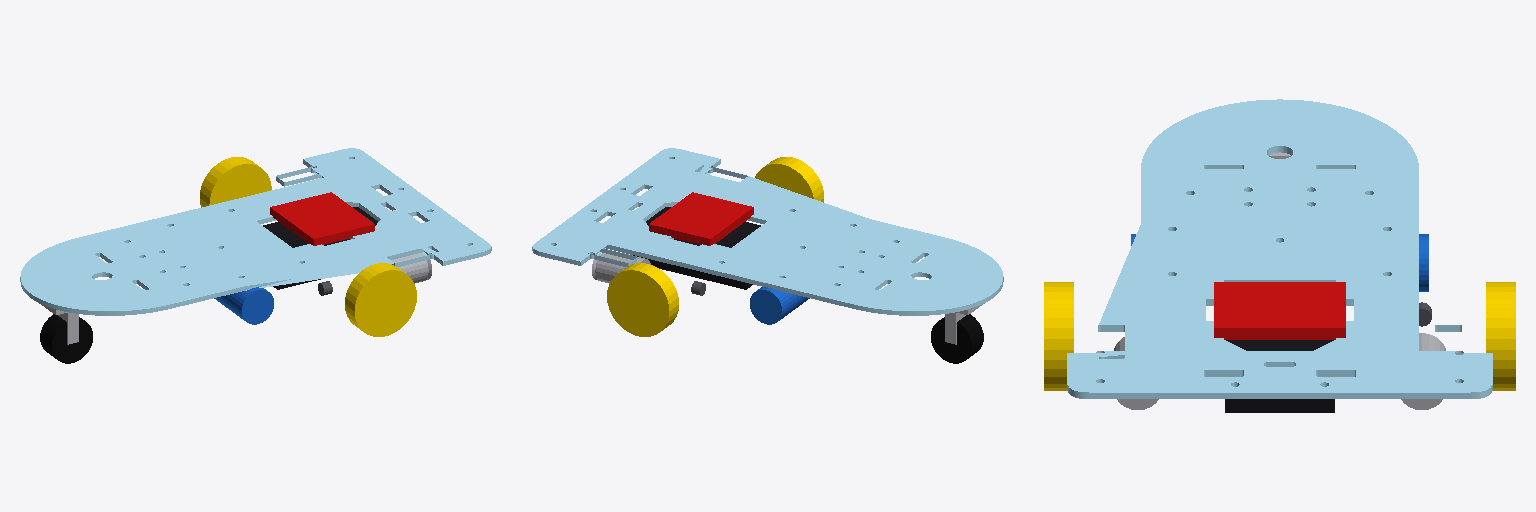
URDF robot description (robot-car):
<?xml version="1.0"?>
<!--
  Physical Agents OS — 2WD Robot Car
  Dimensions sourced from manufacturer datasheets and verified product listings.

  Coordinate convention (viewer-oriented, Z-up):
    -X = forward (bumper / front)   X = rear
    -Y = left                       Y = right
     Z = up

  Note: with -X as forward, RHR gives left = Z × (-X) = -Y.

  Note: bumper is at -X so it faces the viewer's default camera
  (Three.js camera dir (-1, 0.7, 1) → URDF -X side is camera-facing).

  Component sources:
    Chassis    — 220×150×3 mm acrylic (2WD kit, confirmed multiple sellers)
    TT Motor   — 70×22×18 mm body, 10 mm shaft @ ø5.3 mm (Adafruit #3777)
    Wheels     — ø65 mm × 25 mm rubber (Adafruit #3763)
    Caster     — 20 mm total height, 15.7 mm ball (Adafruit #3948)
    L298N      — 43×43×27.5 mm PCB + heatsink (Components101 datasheet)
    ESP32-CAM  — 40×27×12 mm incl. camera assembly (DFRobot DFR0602)
    HC-SR04    — 45×20×15 mm (SparkFun datasheet)
    Power bank — ø35×92 mm cylinder (SIXTHGU, estimated)
    9V battery — 62×27×22 mm holder (estimated)

  All dimensions in meters.
-->
<robot name="robot-car">

  <!-- ─────────────────────────────────────────────────────────────── -->
  <!-- CHASSIS                                                          -->
  <!-- Clear acrylic base plate: 220 × 150 × 3 mm                     -->
  <!-- Mesh: rounded body + curved front bumper arc (generated STL)   -->
  <!-- Bumper at -X (front/camera-facing), rear at +X                 -->
  <!-- ─────────────────────────────────────────────────────────────── -->
  <!-- base_link is the root reference frame (no visual) -->
  <link name="base_link"/>

  <!-- chassis is a child of base_link so the Inspector can select/scale it -->
  <joint name="chassis_joint" type="fixed">
    <parent link="base_link"/>
    <child link="chassis"/>
    <origin xyz="0 0 0" rpy="0 0 0"/>
  </joint>

  <link name="chassis">
    <visual>
      <geometry>
        <mesh filename="chassis.stl" scale="1.07 0.90 1.00"/>
      </geometry>
      <material name="acrylic">
        <color rgba="0.72 0.91 1.00 0.50"/>
      </material>
    </visual>
  </link>

  <!-- ─────────────────────────────────────────────────────────────── -->
  <!-- LEFT DRIVE MOTOR                                                 -->
  <!-- Shaft → -Y (left wheel).  rpy R_x(PI) flips shaft +Y → -Y     -->
  <!-- DC can stays along -X (front) because R_x doesn't affect X     -->
  <!-- ─────────────────────────────────────────────────────────────── -->
  <link name="motor_left">
    <visual>
      <origin xyz="0 0 0" rpy="3.14159 0 0"/>
      <geometry><mesh filename="tt_gearbox.stl"/></geometry>
      <material name="motor_yellow"><color rgba="1.00 0.85 0.00 1.00"/></material>
    </visual>
    <visual>
      <origin xyz="0 0 0" rpy="3.14159 0 0"/>
      <geometry><mesh filename="tt_can.stl"/></geometry>
      <material name="motor_silver"><color rgba="0.72 0.72 0.75 1.00"/></material>
    </visual>
    <visual>
      <origin xyz="0 0 0" rpy="3.14159 0 0"/>
      <geometry><mesh filename="tt_shaft.stl"/></geometry>
      <material name="motor_dark"><color rgba="0.35 0.35 0.38 1.00"/></material>
    </visual>
  </link>
  <joint name="motor_left_joint" type="fixed">
    <parent link="base_link"/>
    <child link="motor_left"/>
    <origin xyz="0.0400 -0.0570 -0.0110" rpy="0.0000 0.0000 0.0000"/>
  </joint>

  <!-- ─────────────────────────────────────────────────────────────── -->
  <!-- RIGHT DRIVE MOTOR                                                -->
  <!-- Shaft → +Y (right wheel).  No rotation needed.                 -->
  <!-- DC can along -X (toward front bumper).                         -->
  <!-- ─────────────────────────────────────────────────────────────── -->
  <link name="motor_right">
    <visual>
      <origin xyz="0 0 0" rpy="0 0 0"/>
      <geometry><mesh filename="tt_gearbox.stl"/></geometry>
      <material name="motor_yellow"><color rgba="1.00 0.85 0.00 1.00"/></material>
    </visual>
    <visual>
      <origin xyz="0 0 0" rpy="0 0 0"/>
      <geometry><mesh filename="tt_can.stl"/></geometry>
      <material name="motor_silver"><color rgba="0.72 0.72 0.75 1.00"/></material>
    </visual>
    <visual>
      <origin xyz="0 0 0" rpy="0 0 0"/>
      <geometry><mesh filename="tt_shaft.stl"/></geometry>
      <material name="motor_dark"><color rgba="0.35 0.35 0.38 1.00"/></material>
    </visual>
  </link>
  <joint name="motor_right_joint" type="fixed">
    <parent link="base_link"/>
    <child link="motor_right"/>
    <origin xyz="0.0400 0.0570 -0.0110" rpy="0.0000 0.0000 0.0000"/>
  </joint>

  <!-- ─────────────────────────────────────────────────────────────── -->
  <!-- LEFT WHEEL                                                       -->
  <!-- STL: base cyl R=31mm, tread blocks 16×4 raised to R=32.5mm, W=26mm -->
  <!-- Yellow hub disc on outboard face (local +Z → world outboard for left wheel) -->
  <!-- Shaft center at Z=+11 mm so car sits flat with swivel caster    -->
  <!-- ─────────────────────────────────────────────────────────────── -->
  <link name="wheel_left">
    <visual>
      <geometry>
        <mesh filename="wheel.stl"/>
      </geometry>
      <material name="rubber">
        <color rgba="0.10 0.10 0.10 1.00"/>
      </material>
    </visual>
    <!-- Yellow hub disc on the outboard face (local +Z = outboard for left wheel) -->
    <visual>
      <origin xyz="0 0 0.0075" rpy="0 0 0"/>
      <geometry>
        <cylinder radius="0.022" length="0.012"/>
      </geometry>
      <material name="hub_yellow">
        <color rgba="1.00 0.85 0.00 1.00"/>
      </material>
    </visual>
  </link>
  <joint name="wheel_left_joint" type="continuous">
    <parent link="base_link"/>
    <child link="wheel_left"/>
    <!-- rpy rotates cylinder from Z-axis to Y-axis so wheel spins around Y -->
    <origin xyz="0.0400 -0.0810 -0.0110" rpy="1.5708 0.0000 0.0000"/>
    <axis xyz="0 0 1"/>
    <limit effort="2.0" velocity="15.0"/>
  </joint>

  <!-- ─────────────────────────────────────────────────────────────── -->
  <!-- RIGHT WHEEL                                                      -->
  <!-- Same STL as left wheel; hub at local −Z = outboard for right   -->
  <!-- ─────────────────────────────────────────────────────────────── -->
  <link name="wheel_right">
    <visual>
      <geometry>
        <mesh filename="wheel.stl"/>
      </geometry>
      <material name="rubber">
        <color rgba="0.10 0.10 0.10 1.00"/>
      </material>
    </visual>
    <!-- Yellow hub disc on the outboard face (local -Z = outboard for right wheel) -->
    <visual>
      <origin xyz="0 0 -0.0075" rpy="0 0 0"/>
      <geometry>
        <cylinder radius="0.022" length="0.012"/>
      </geometry>
      <material name="hub_yellow">
        <color rgba="1.00 0.85 0.00 1.00"/>
      </material>
    </visual>
  </link>
  <joint name="wheel_right_joint" type="continuous">
    <parent link="base_link"/>
    <child link="wheel_right"/>
    <origin xyz="0.0400 0.0810 -0.0110" rpy="1.5708 0.0000 0.0000"/>
    <axis xyz="0 0 1"/>
    <limit effort="2.0" velocity="15.0"/>
  </joint>

  <!-- ─────────────────────────────────────────────────────────────── -->
  <!-- CASTER WHEEL ASSEMBLY (front-center, -X side)                   -->
  <!-- Swivel caster: square mount plate + steel fork + rubber wheel   -->
  <!-- Three parts share X/Y; stacked down from chassis underside      -->
  <!-- ─────────────────────────────────────────────────────────────── -->

  <!-- Mount plate: ~36×36×4 mm clear/steel -->
  <link name="caster_plate">
    <visual>
      <geometry>
        <box size="0.036 0.036 0.004"/>
      </geometry>
      <material name="caster_metal">
        <color rgba="0.76 0.76 0.78 1.00"/>
      </material>
    </visual>
  </link>
  <joint name="caster_plate_joint" type="fixed">
    <parent link="base_link"/>
    <child link="caster_plate"/>
    <origin xyz="-0.1300 0.0000 -0.0040" rpy="0 0 0"/>
  </joint>

  <!-- Swivel fork: thin U-bracket, spans plate bottom → wheel center  -->
  <!-- Height 8 mm: from plate bottom (−5 mm) to wheel center (−13.5 mm)-->
  <link name="caster_fork">
    <visual>
      <geometry>
        <box size="0.008 0.016 0.030"/>
      </geometry>
      <material name="caster_metal">
        <color rgba="0.76 0.76 0.78 1.00"/>
      </material>
    </visual>
  </link>
  <joint name="caster_fork_joint" type="fixed">
    <parent link="base_link"/>
    <child link="caster_fork"/>
    <origin xyz="-0.1300 0.0000 -0.0180" rpy="0.0000 0.0000 0.0000"/>
  </joint>

  <!-- Swivel wheel: rubber; dimensions × 1.21 from inspector calibration -->
  <!-- continuous so it visually rolls when car moves                     -->
  <link name="caster_wheel">
    <visual>
      <geometry>
        <cylinder radius="0.0146" length="0.0145"/>
      </geometry>
      <material name="caster_rubber">
        <color rgba="0.08 0.08 0.08 1.00"/>
      </material>
    </visual>
  </link>
  <joint name="caster_wheel_joint" type="continuous">
    <parent link="base_link"/>
    <child link="caster_wheel"/>
    <origin xyz="-0.1300 0.0000 -0.0320" rpy="1.5708 0.0000 0.0000"/>
    <axis xyz="0 0 1"/>
  </joint>

  <!-- ─────────────────────────────────────────────────────────────── -->
  <!-- L298N DUAL H-BRIDGE MOTOR DRIVER                                 -->
  <!-- PCB + heatsink: 43 × 43 × 27.5 mm (Components101 datasheet)    -->
  <!-- ─────────────────────────────────────────────────────────────── -->
  <link name="l298n">
    <visual>
      <geometry>
        <box size="0.0434 0.0533 0.0055"/>
      </geometry>
      <material name="pcb_red">
        <color rgba="0.85 0.08 0.08 1.00"/>
      </material>
    </visual>
  </link>
  <joint name="l298n_joint" type="fixed">
    <parent link="base_link"/>
    <child link="l298n"/>
    <origin xyz="0.0500 0.0000 0.0050" rpy="0.0000 0.0000 0.0000"/>
  </joint>

  <!-- ─────────────────────────────────────────────────────────────── -->
  <!-- AA BATTERY BOX (4×AA)                                           -->
  <!-- Holder: ~62 × 52 × 22 mm; mounted under chassis                -->
  <!-- ─────────────────────────────────────────────────────────────── -->
  <link name="battery_box">
    <visual>
      <geometry>
        <box size="0.0806 0.0442 0.022"/>
      </geometry>
      <material name="battery">
        <color rgba="0.12 0.12 0.14 1.00"/>
      </material>
    </visual>
  </link>
  <joint name="battery_box_joint" type="fixed">
    <parent link="base_link"/>
    <child link="battery_box"/>
    <!-- Z: chassis bottom (−1.5 mm) − half box (11 mm) = −12.5 mm -->
    <origin xyz="0.0460 0.0000 -0.0120" rpy="0.0000 0.0000 0.0000"/>
  </joint>

  <!-- ─────────────────────────────────────────────────────────────── -->
  <!-- POWER BANK (cylindrical)                                              -->
  <!-- ø16 mm × 92 mm; flush against chassis underside, spanning Y axis    -->
  <!-- Z: chassis bottom (−1.5 mm) − radius (8 mm) = −9.5 mm              -->
  <!-- Ground clearance: 21.5 mm − (9.5 + 8) = 4 mm                       -->
  <!-- ─────────────────────────────────────────────────────────────── -->
  <link name="powerbank">
    <visual>
      <geometry>
        <cylinder radius="0.0115" length="0.1199"/>
      </geometry>
      <material name="powerbank_blue">
        <color rgba="0.15 0.45 0.85 1.00"/>
      </material>
    </visual>
  </link>
  <joint name="powerbank_joint" type="fixed">
    <parent link="base_link"/>
    <child link="powerbank"/>
    <origin xyz="-0.0300 0.0000 -0.0110" rpy="1.5708 0.0000 0.0000"/>
  </joint>

</robot>

--- Render facts (derived) ---
3 views of the same robot in one strip: view 1: azimuth 30°, elevation 25°; view 2: azimuth 150°, elevation 25°; view 3: azimuth 270°, elevation 25° (orthographic).
Model robot-car with 12 links and 11 joints (3 continuous, 8 fixed), rooted at base_link, posed every joint at zero.
Links seen in each view (by area): view 1: chassis, wheel_left, l298n, wheel_right, caster_wheel, powerbank, motor_left, battery_box; view 2: chassis, wheel_right, l298n, wheel_left, caster_wheel, powerbank, battery_box, motor_right; view 3: chassis, l298n, wheel_left, wheel_right, battery_box, motor_right, powerbank.
Boxes of the visible links, box(x1,y1,x2,y2) form: chassis: box(20, 148, 491, 315); wheel_left: box(345, 263, 416, 336); l298n: box(270, 192, 374, 245); wheel_right: box(200, 157, 271, 207); caster_wheel: box(40, 314, 92, 363); powerbank: box(214, 287, 273, 324); motor_left: box(318, 253, 431, 295); battery_box: box(263, 207, 377, 289); chassis: box(532, 148, 1003, 315); wheel_right: box(607, 263, 678, 336); l298n: box(649, 192, 753, 245); wheel_left: box(755, 157, 823, 202); caster_wheel: box(931, 314, 983, 363); powerbank: box(750, 287, 809, 324); battery_box: box(633, 207, 760, 289); motor_right: box(592, 253, 705, 295); chassis: box(1067, 99, 1492, 398); l298n: box(1214, 282, 1345, 339); wheel_left: box(1044, 282, 1073, 390); wheel_right: box(1486, 282, 1515, 390); battery_box: box(1225, 340, 1334, 412); motor_right: box(1401, 302, 1445, 409); powerbank: box(1131, 234, 1428, 291).
Size in the robot's own frame: 0.2782 by 0.189 by 0.0576 metres.
5 mesh visuals loaded from 5 distinct referenced files (3 binary STL); not drawn: 4 (reference not matched to a file when rendering).
